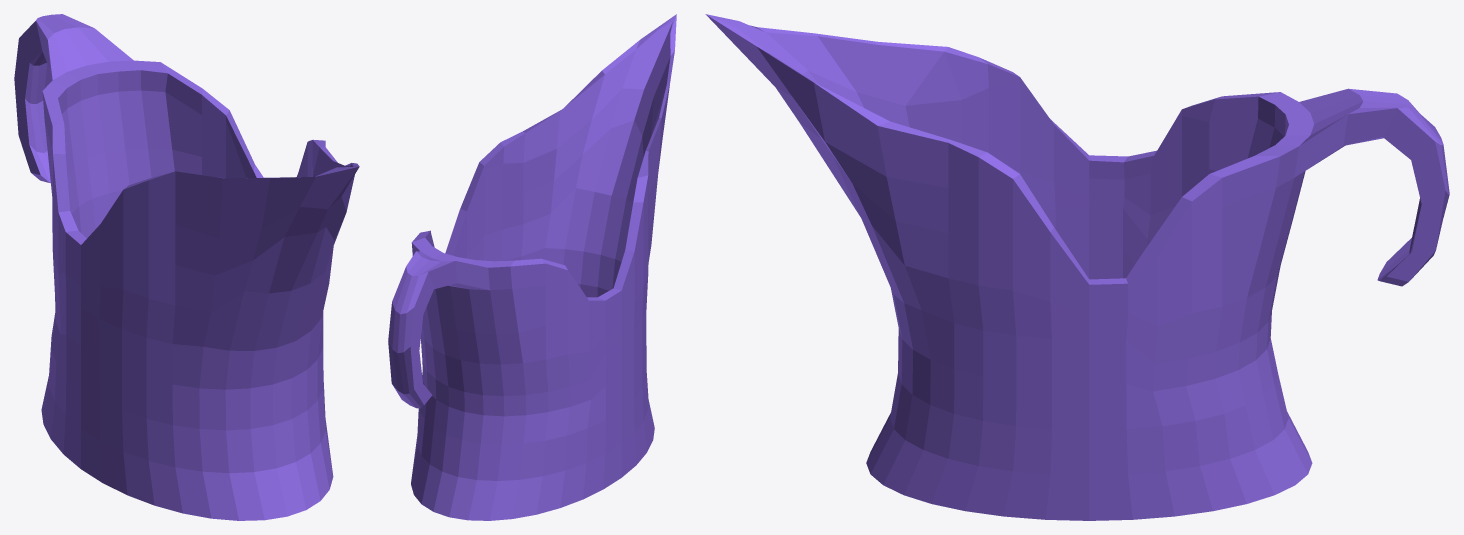
The model's file is wateringCan.fbx.
3 renders of one model, left to right at view 1: azimuth 30°, elevation 25°; view 2: azimuth 150°, elevation 25°; view 3: azimuth 270°, elevation 25°, orthographic. The views are drawn at different scales.
Parts seen in each view (by area): view 1: Cylinder; view 2: Cylinder; view 3: Cylinder.
Part boxes in pixels (x1,y1,x2,y2): Cylinder: (14,14,359,520); Cylinder: (388,14,676,520); Cylinder: (705,14,1449,520).
Bounding box in the file's own units: 137 × 249 × 374.
